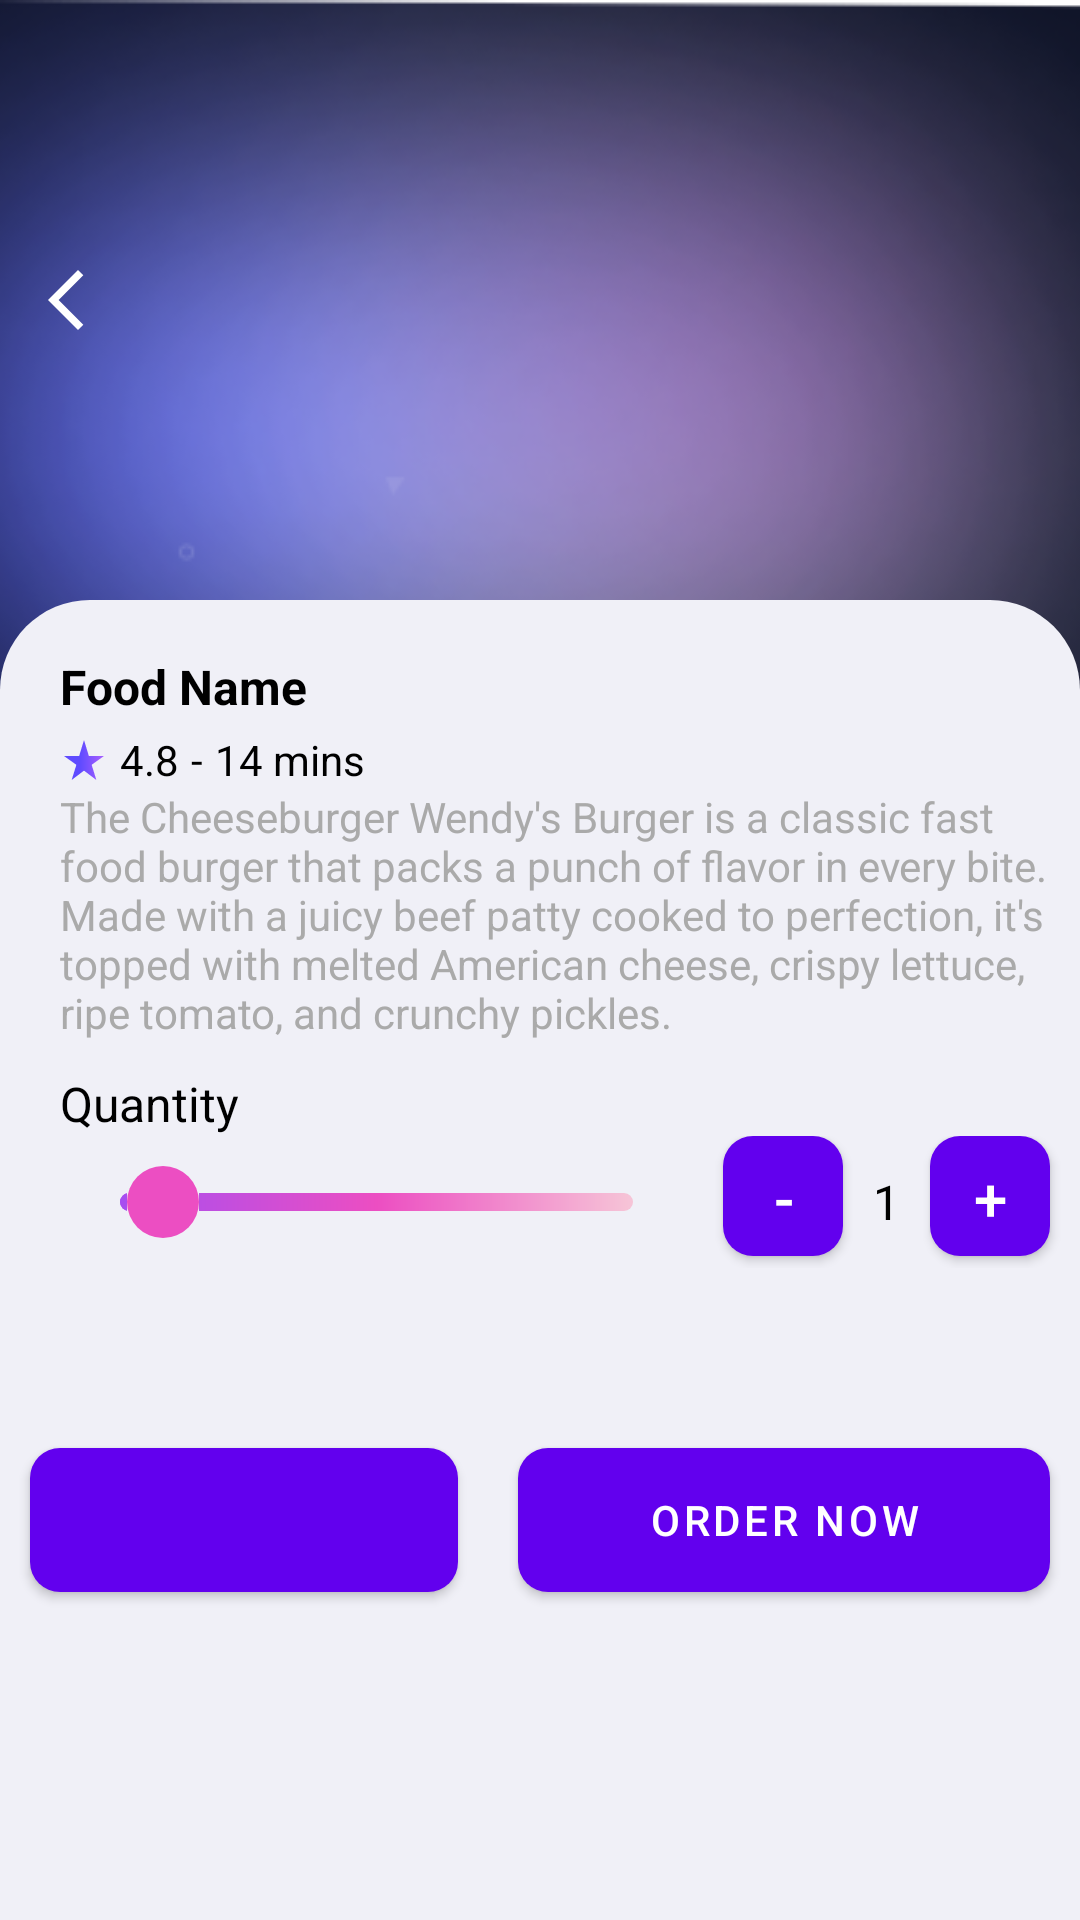

Icon bounding boxes for this 1080w x 1920h phone screenshot, format (x1, y1, x2, y2):
back: (30, 264, 102, 336)
rating: (64, 741, 104, 780)
